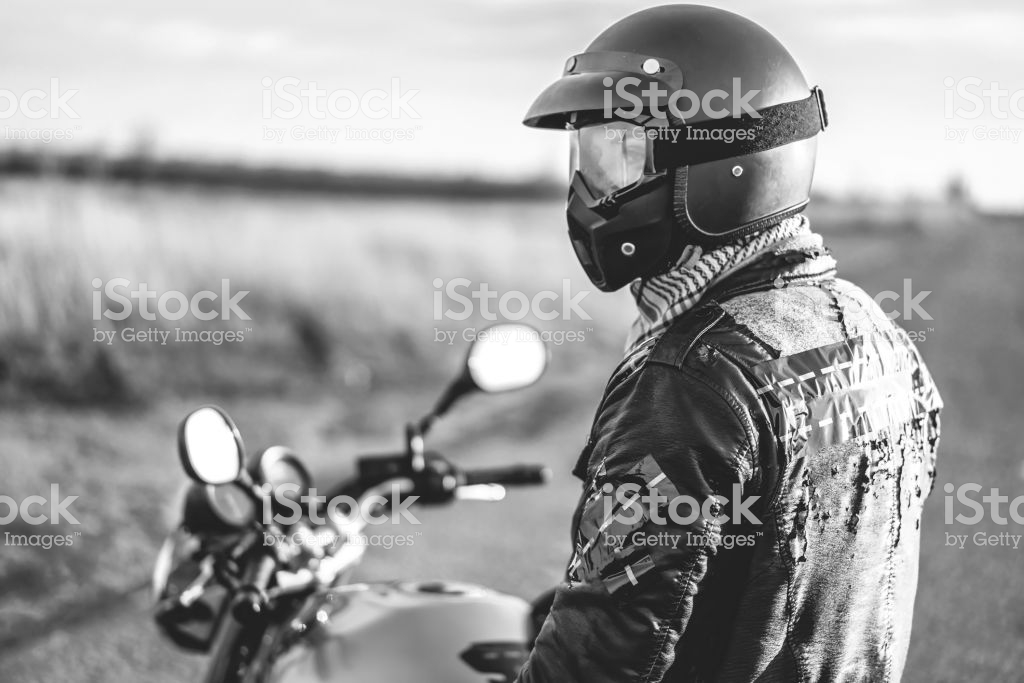helmet: (547, 7, 820, 241)
